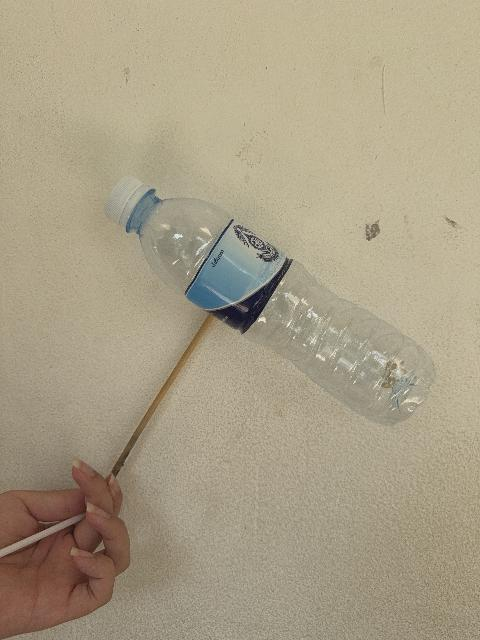bottle: (105, 177, 434, 425)
